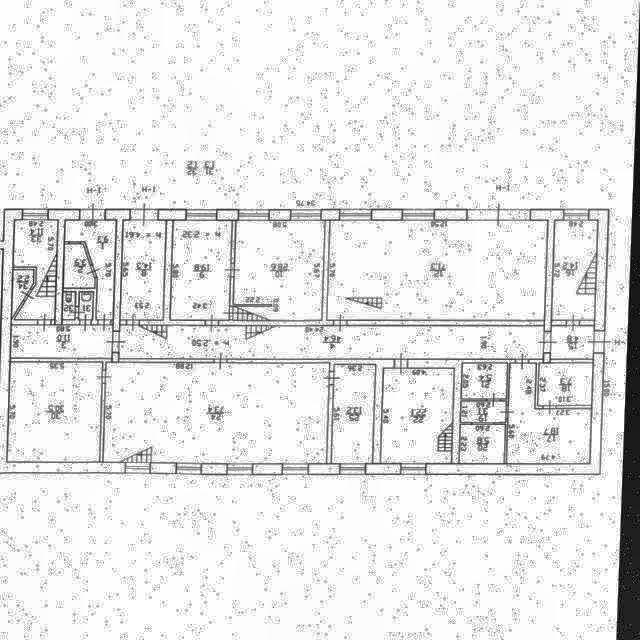room: (106, 363, 332, 463), (329, 221, 550, 321), (122, 324, 547, 359), (235, 218, 327, 323), (10, 363, 104, 462), (510, 362, 595, 465), (384, 367, 458, 466), (172, 219, 234, 322), (65, 219, 118, 319), (554, 218, 600, 322), (334, 363, 379, 465), (123, 220, 168, 321), (15, 219, 59, 320), (13, 325, 116, 357), (542, 363, 595, 406), (463, 424, 509, 463), (465, 364, 510, 398), (65, 244, 98, 288), (554, 326, 596, 359), (13, 269, 36, 319), (464, 401, 510, 422), (81, 292, 96, 320), (65, 292, 78, 320)
